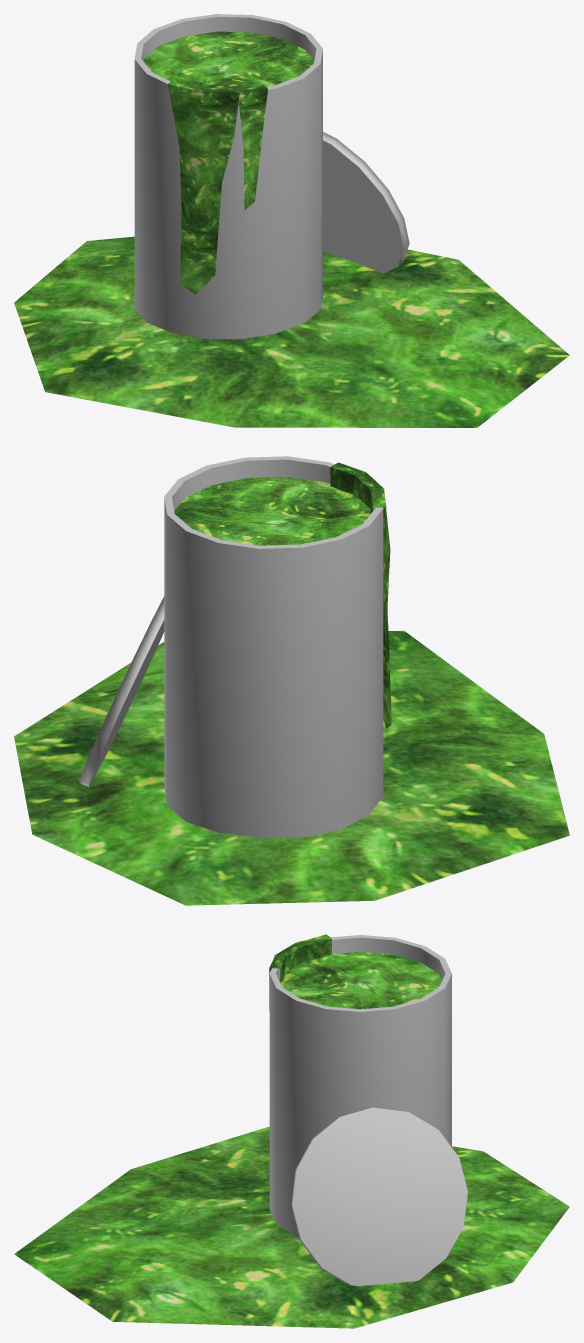
File: toxic_spill_2.fbx
3 views of the same model, one above another, from view 1: azimuth 30°, elevation 25°; view 2: azimuth 150°, elevation 25°; view 3: azimuth 270°, elevation 25° (orthographic). The views are drawn at different scales.
Visible parts, largest first — view 1: polySurface37; view 2: polySurface37; view 3: polySurface37.
Part boxes in pixels (<box>): polySurface37: <box>14,14,569,427</box>; polySurface37: <box>14,456,569,905</box>; polySurface37: <box>14,934,569,1328</box>.
Size of the model in its own units: 5.61 by 3.15 by 6.3.
